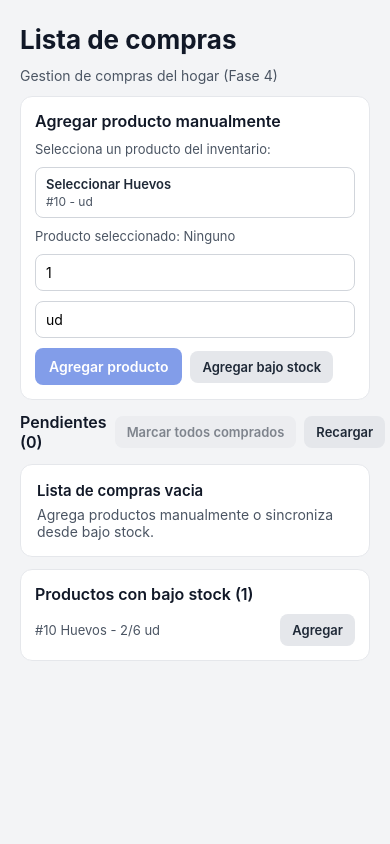
Test: ShoppingListScreen › agrega un producto bajo stock de forma individual
Expected: the text "Productos con bajo stock (1)" is shown, [35,584,254,604]
Click the element showing "Agregar" at (318, 630), box [280,614,355,646]
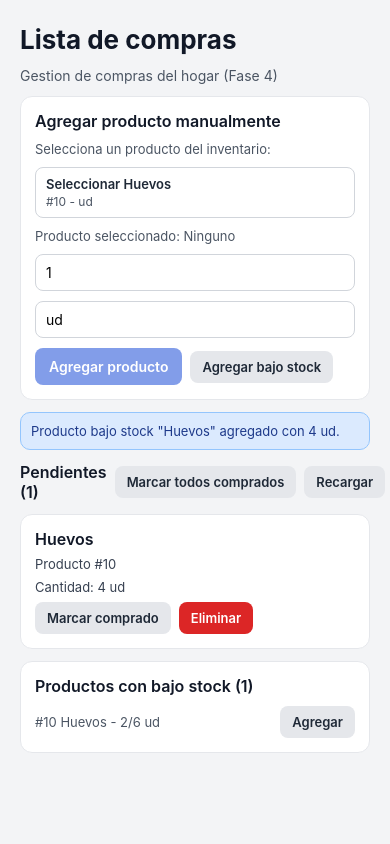
Expected: the text "Producto bajo stock \"Huevos\" agregado con 4 ud." is shown, [31,423,359,439]
